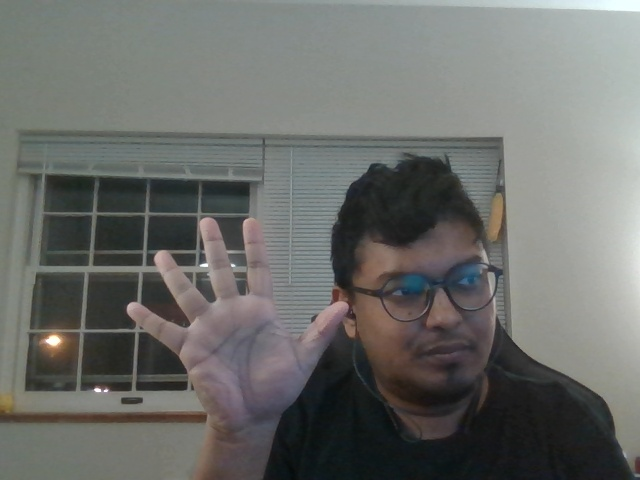hello: (116, 208, 363, 431)
